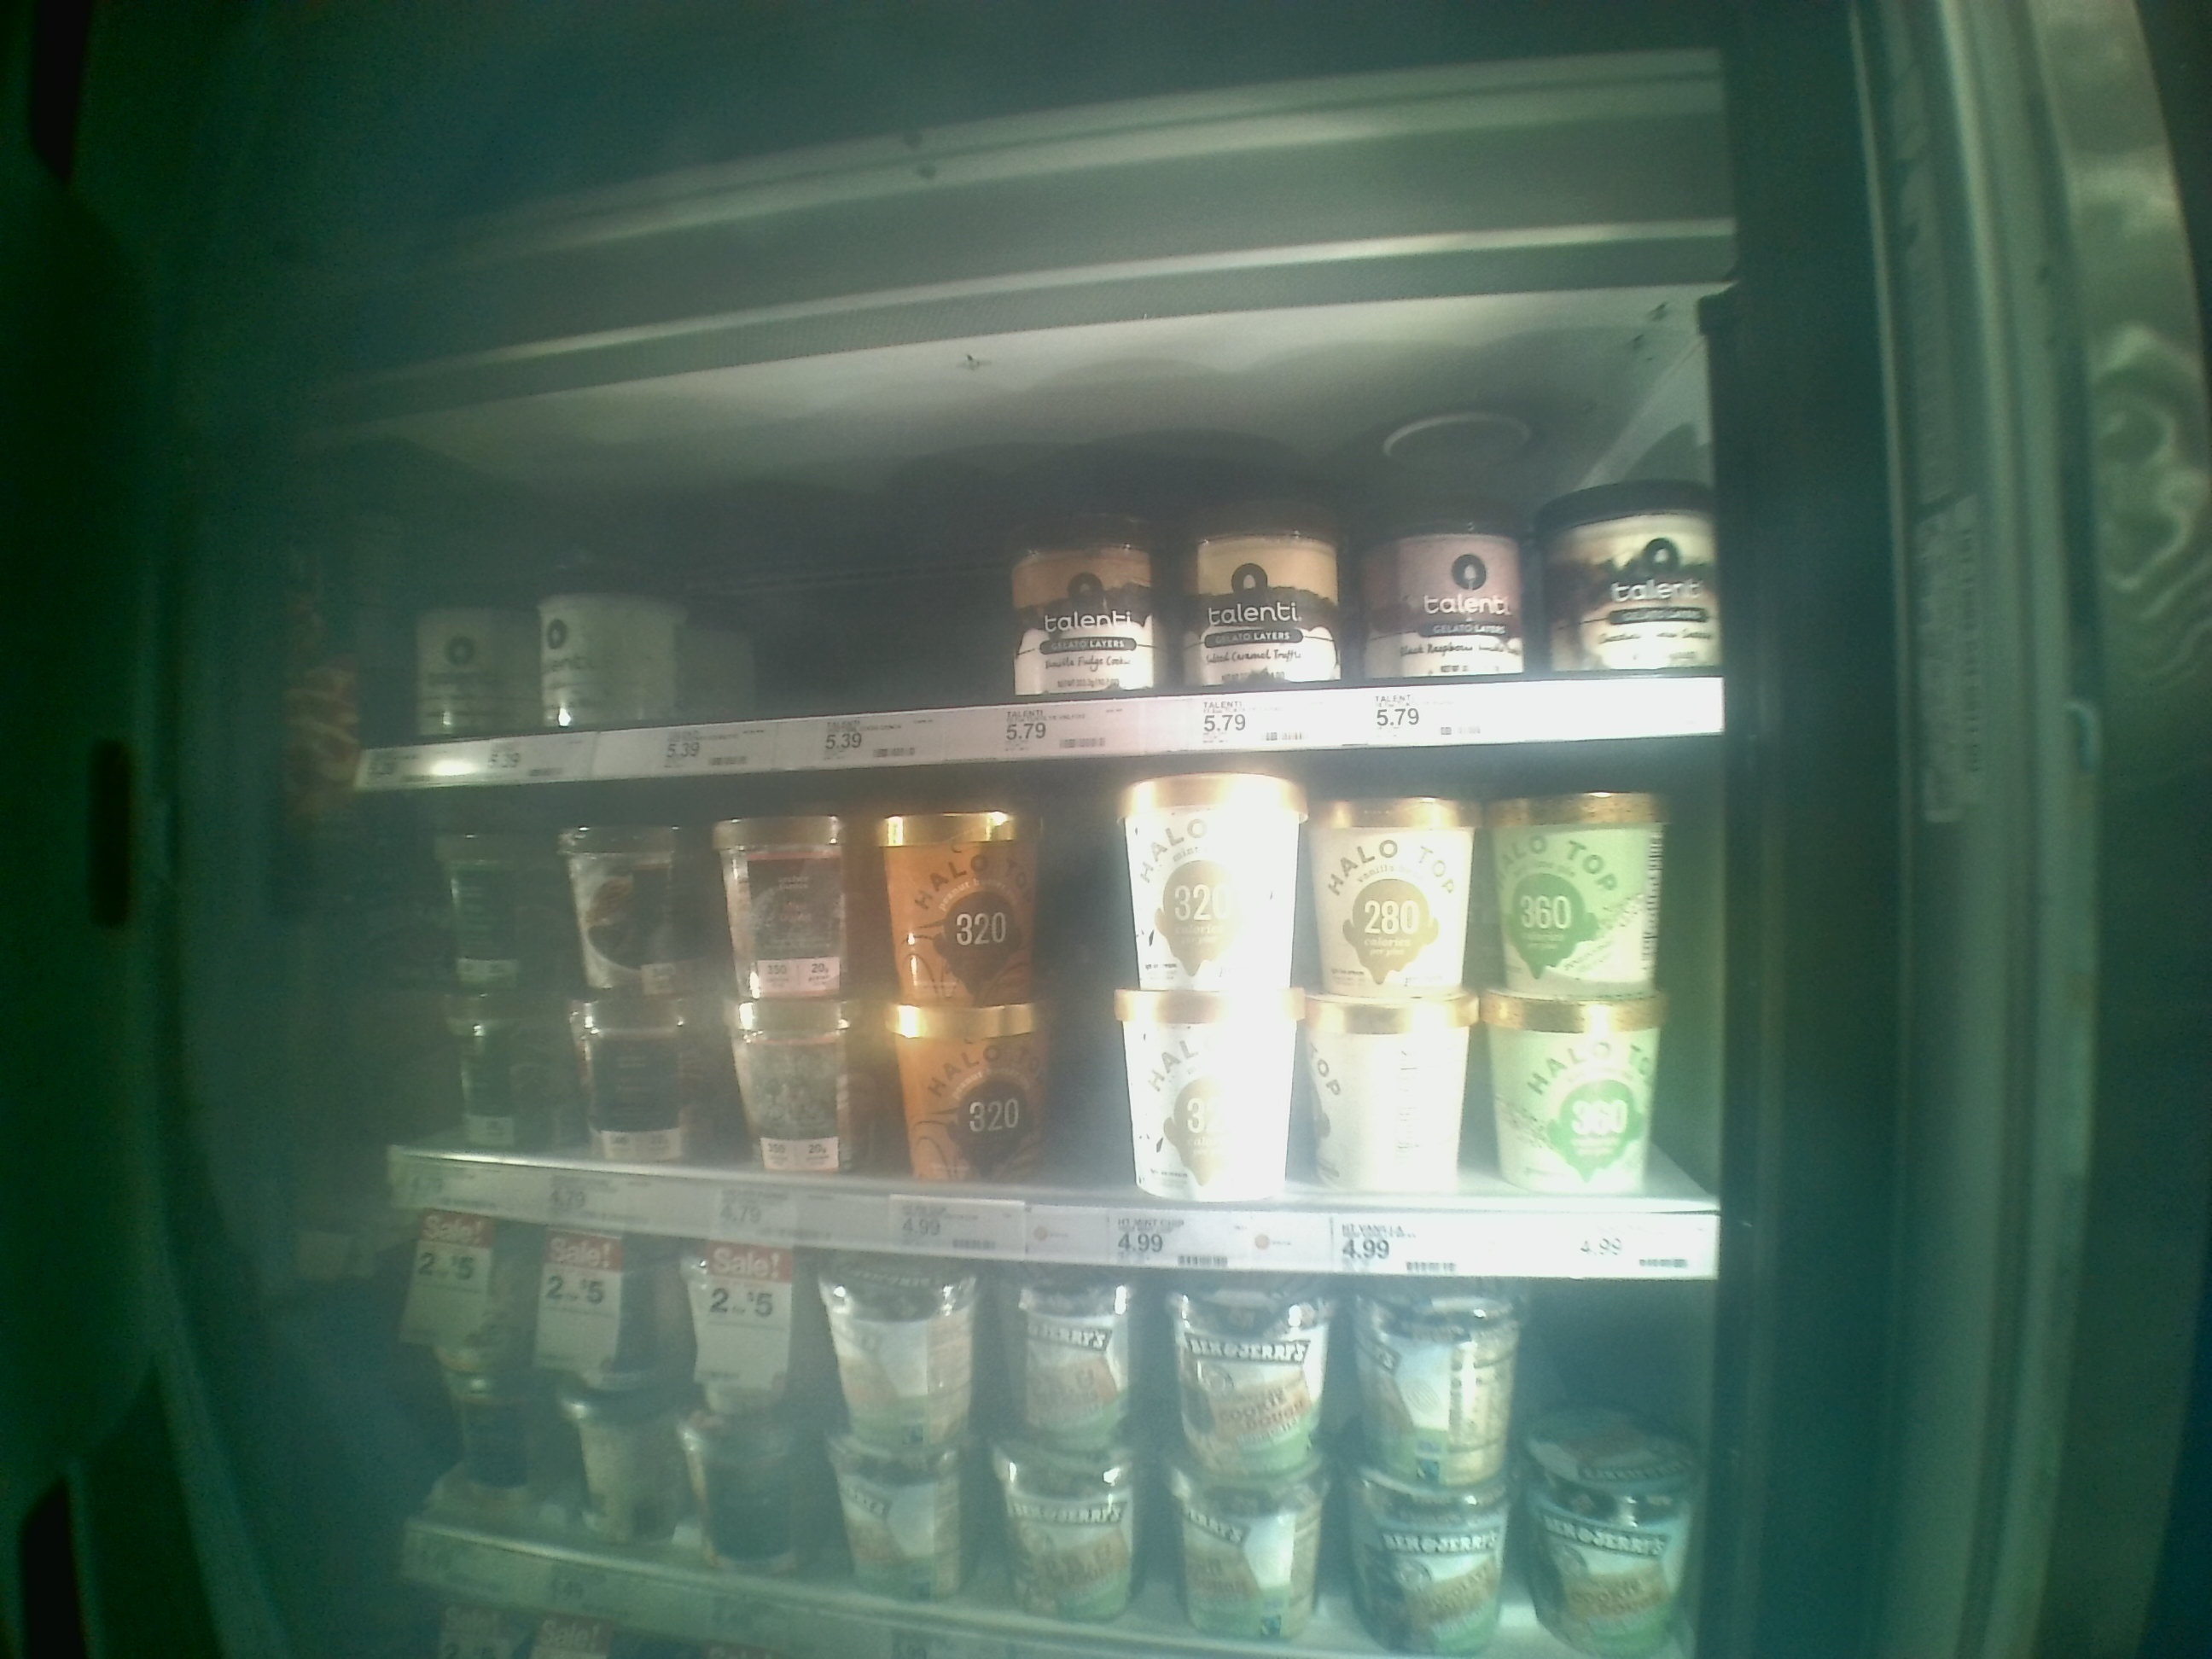shelf: (371, 734, 1730, 1288), (341, 368, 1740, 796)
